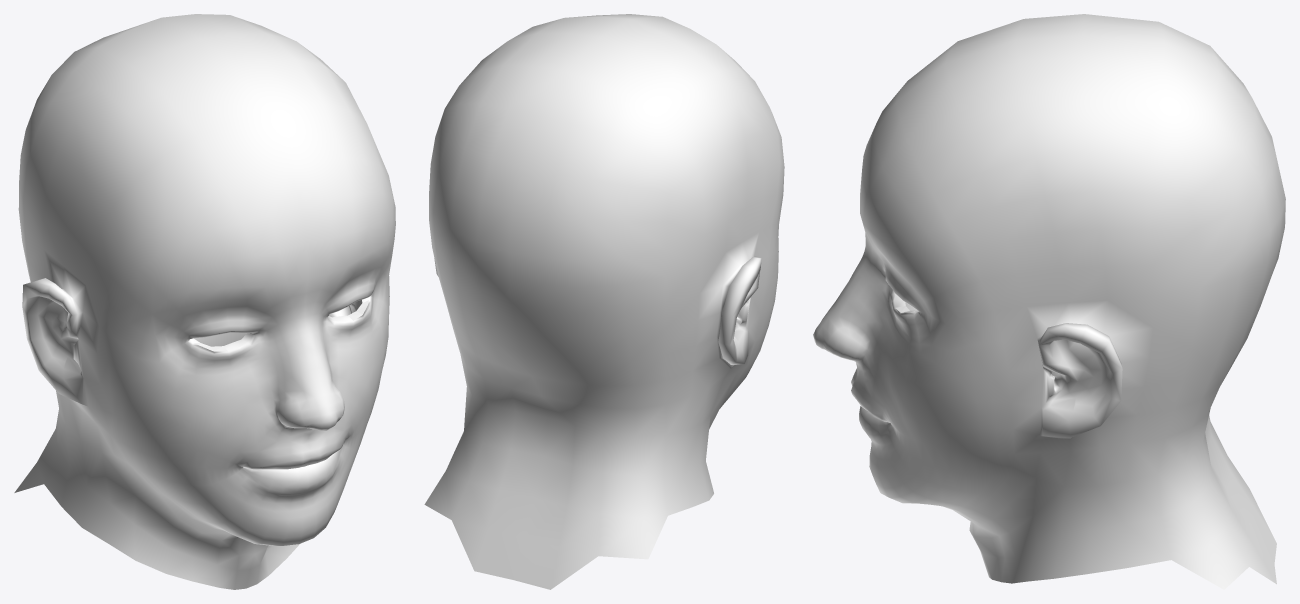
The model's file is StandHead.FBX.
The picture shows the model from 3 angles, left to right: view 1: azimuth 30°, elevation 25°; view 2: azimuth 150°, elevation 25°; view 3: azimuth 270°, elevation 25°; orthographic projection. The views are drawn at different scales.
Parts seen in each view (by area): view 1: Box001; view 2: Box001; view 3: Box001.
Part boxes in pixels (left/top/right/bottom): Box001: left=14, top=14, right=395, bottom=589; Box001: left=424, top=14, right=784, bottom=589; Box001: left=813, top=14, right=1285, bottom=589.
Bounding box in the file's own units: 388 × 580 × 462.
Materials: 1 (1 with a texture image).
